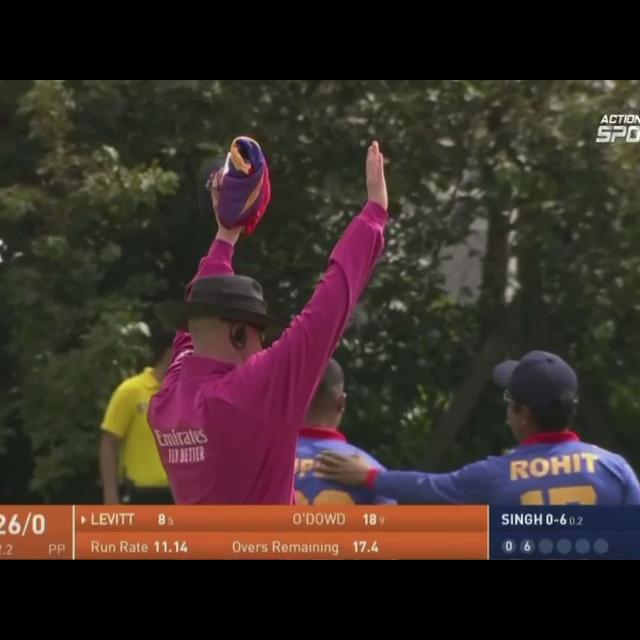umpire: (138, 92, 409, 523)
